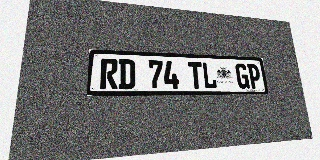4: (163, 61, 179, 89)
7: (148, 60, 164, 89)
D: (118, 59, 135, 89)
G: (235, 63, 250, 89)
L: (202, 62, 217, 89)
P: (247, 64, 262, 89)
R: (100, 58, 118, 89)
T: (188, 61, 203, 89)
